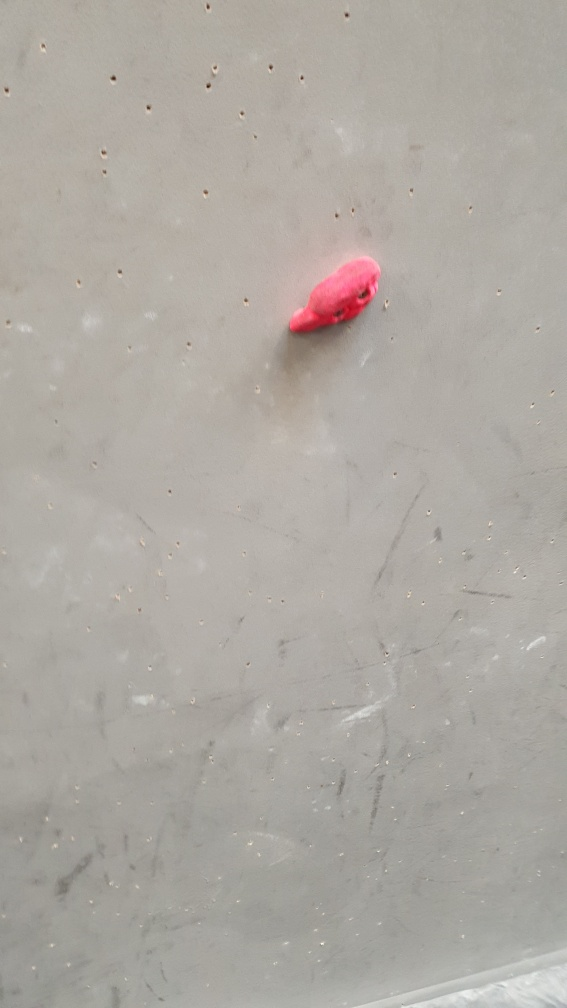Jug: (288, 254, 382, 333)
